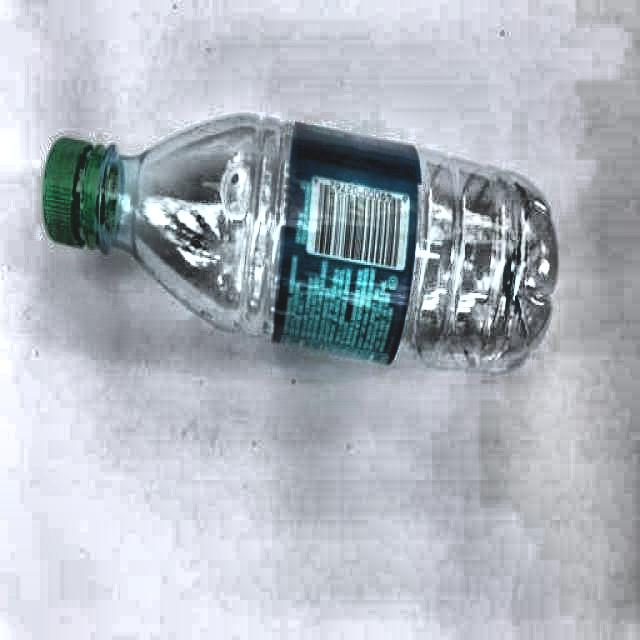plastic bottle: (42, 114, 558, 372)
